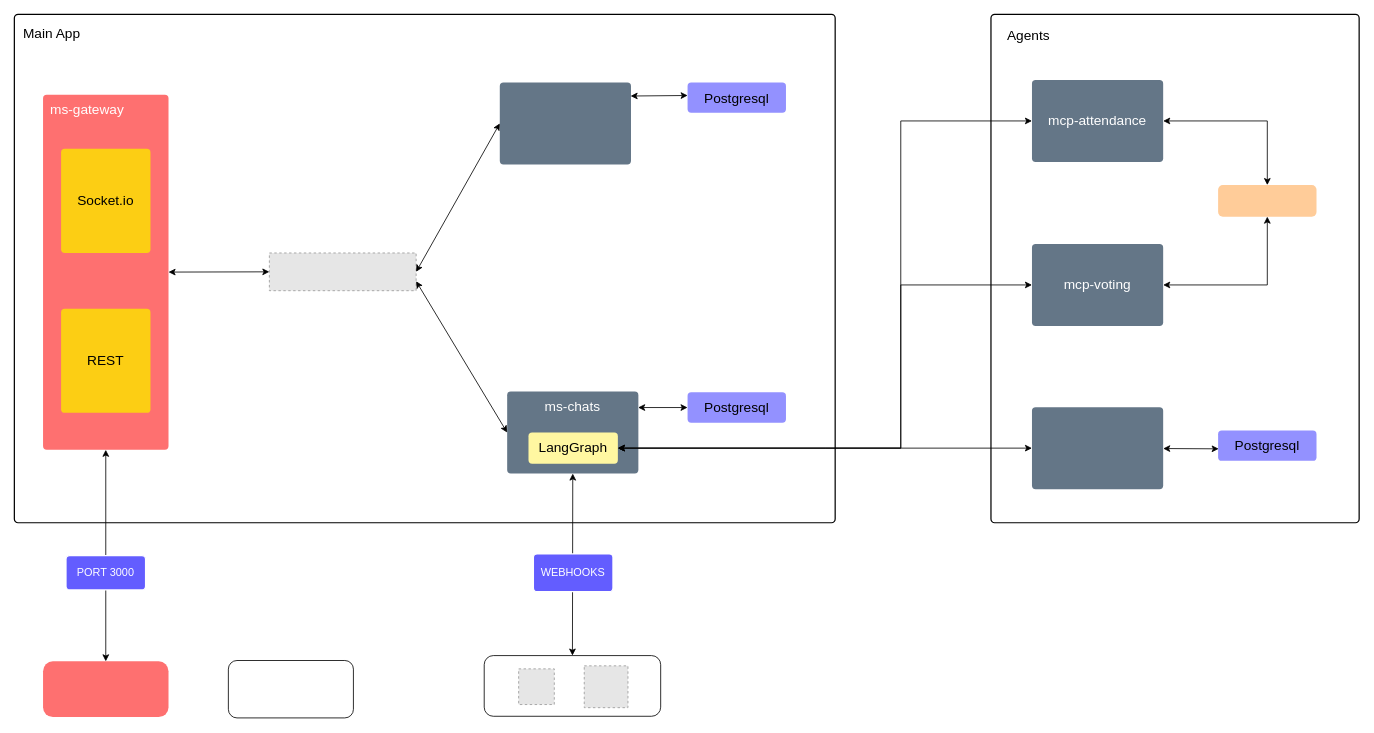
Some shapes in this 1374 by 733 pixel diagram are drawn without their labels. Grey dashed boxes stand in for pictures. The centre of each missing label's shape, as x and y in pixels:
Clientes: (105,688)
mcp-procurement: (1097,447)
ms-documents: (565,123)
Nginx (Port 8080): (290,689)
Qdrant: (1267,200)
